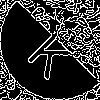K: (25, 25, 81, 82)
